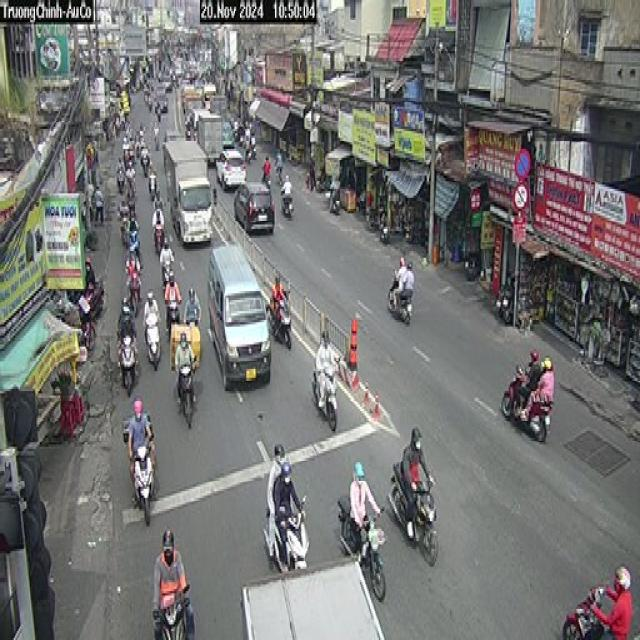car: (208, 240, 272, 384)
motorcycle: (387, 460, 442, 565), (336, 494, 389, 600), (265, 499, 313, 576), (557, 578, 605, 640), (127, 442, 160, 527), (310, 357, 344, 436), (149, 593, 196, 640), (175, 360, 200, 435), (264, 294, 296, 352), (142, 314, 164, 371)
person: (152, 523, 189, 602), (604, 562, 638, 640), (272, 458, 298, 525), (349, 454, 371, 533), (401, 422, 428, 486), (265, 441, 286, 516), (126, 394, 152, 452), (315, 321, 339, 368), (175, 331, 196, 367), (185, 285, 203, 324), (270, 273, 284, 311), (143, 289, 159, 319)
truck: (234, 556, 391, 638), (160, 140, 218, 247)
